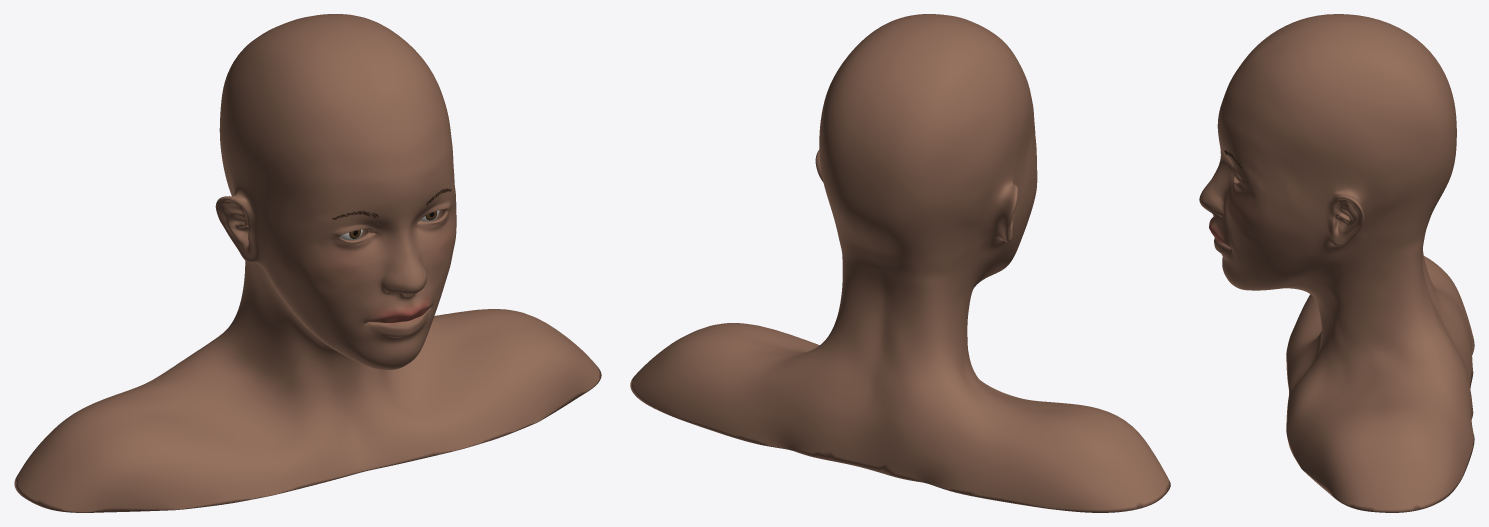
The model's file is lab-head-reviewed-ultra.glb.
3 views of the same model, side by side, from view 1: azimuth 30°, elevation 25°; view 2: azimuth 150°, elevation 25°; view 3: azimuth 270°, elevation 25° (orthographic). The views are drawn at different scales.
Parts seen in each view (by area): view 1: part-skin-head; view 2: part-skin-head; view 3: part-skin-head.
Part boxes in pixels (x1,y1,x2,y2): part-skin-head: [14, 14, 601, 512]; part-skin-head: [630, 14, 1170, 512]; part-skin-head: [1199, 14, 1474, 512].
Bounding box in the file's own units: 30.91 × 22.04 × 14.93.
